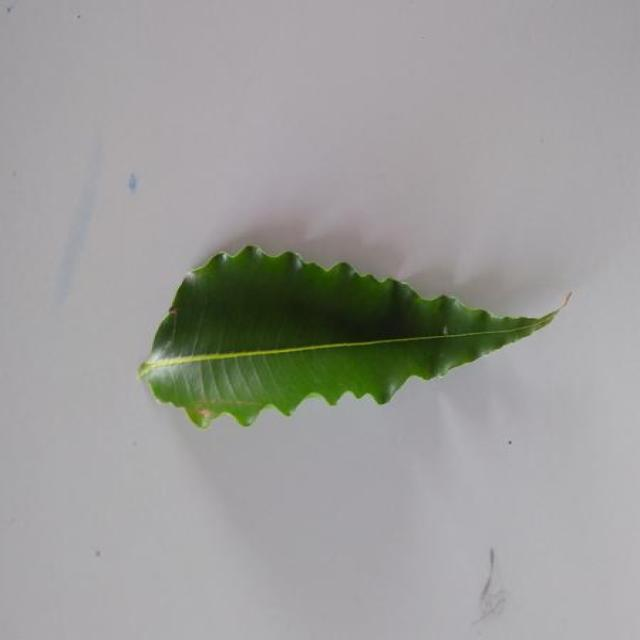ashoka: (138, 246, 558, 427)
